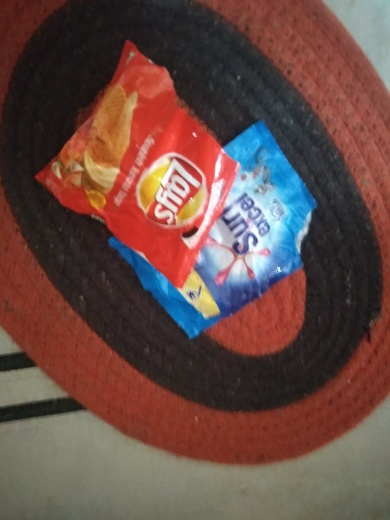lays: (27, 36, 241, 292)
surf: (99, 131, 334, 336)
